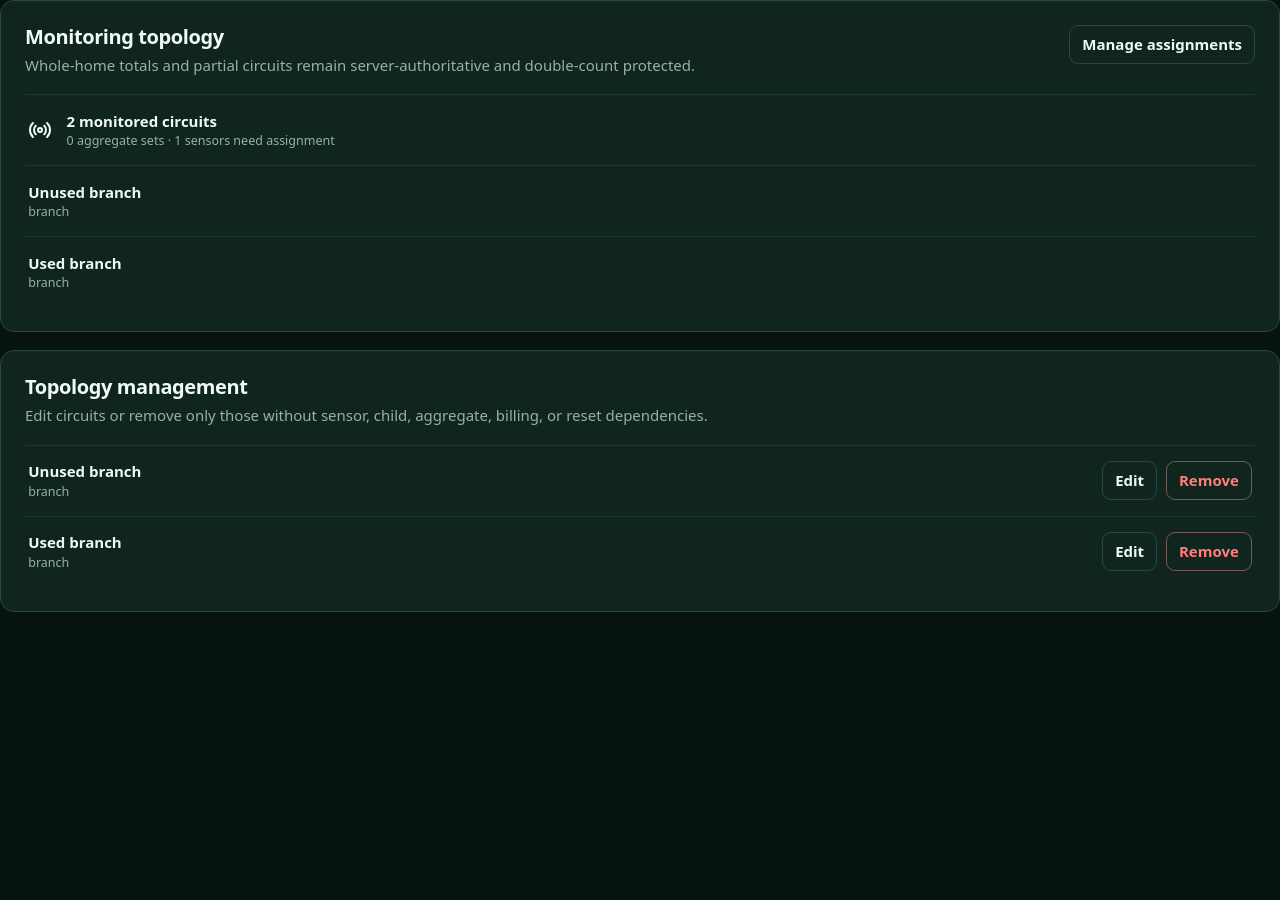
Test case: topology removal controls › removes an unused circuit only after exact confirmation and preserves history
Click the 1st button "Remove": click(1209, 481) [1166,461,1252,500]
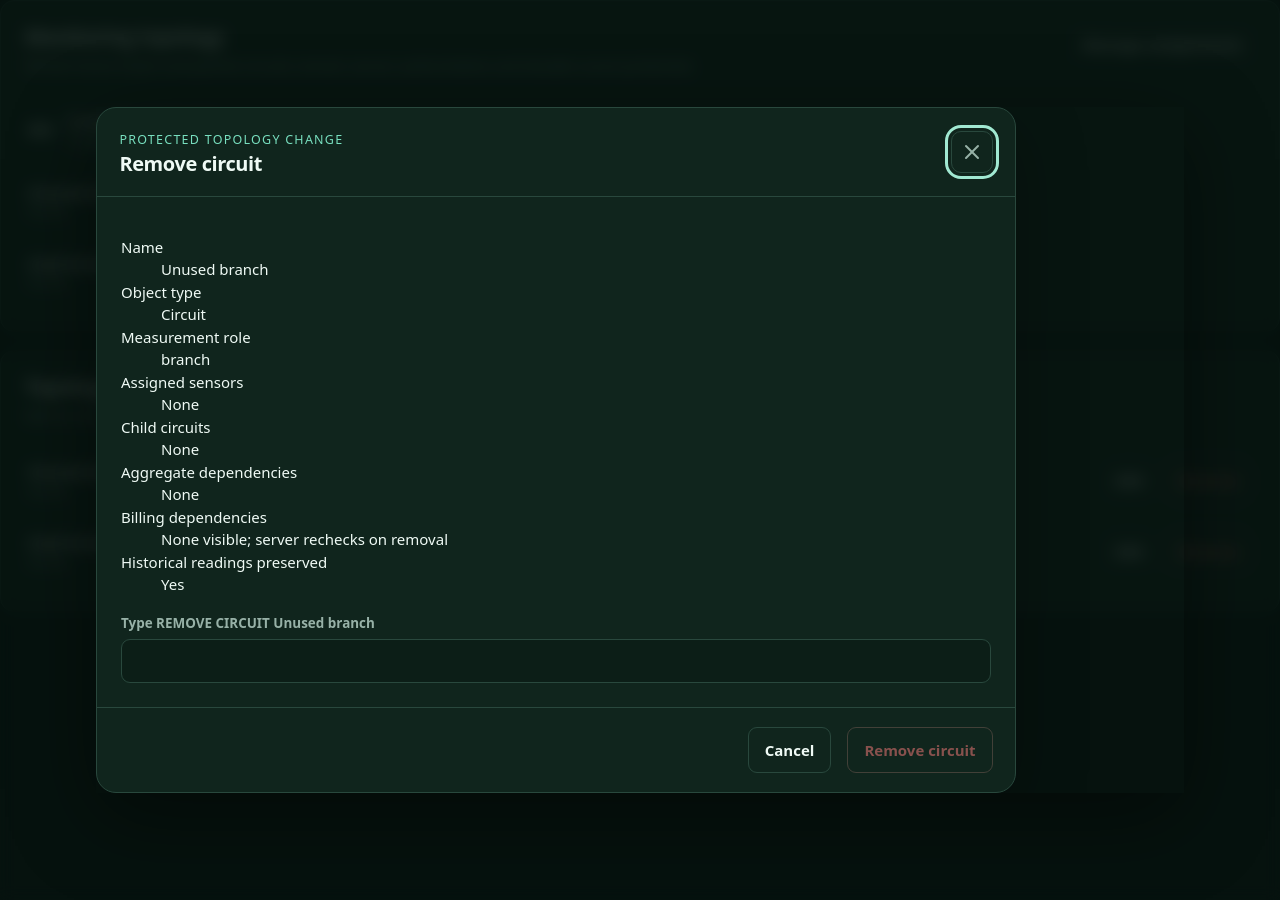
Expected: the button "Remove circuit" is disabled, [847,727,993,773]
In the field labelled "Type REMOVE CIRCUIT Unused branch": (556, 661) [121,639,991,683], type "REMOVE CIRCUIT Unused branch"
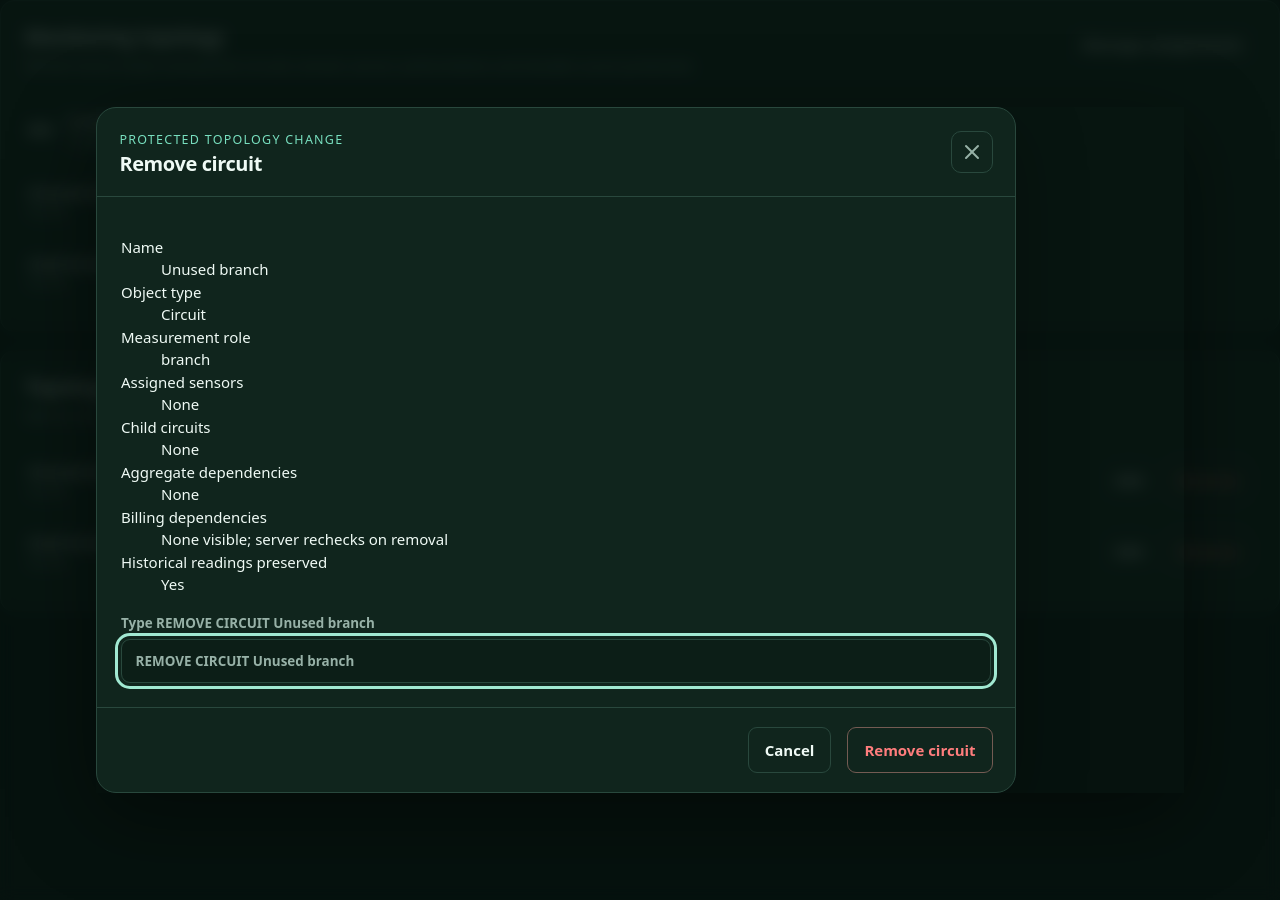
Expected: the button "Remove circuit" is enabled
Click the button "Remove circuit": click(920, 750) [847,727,993,773]
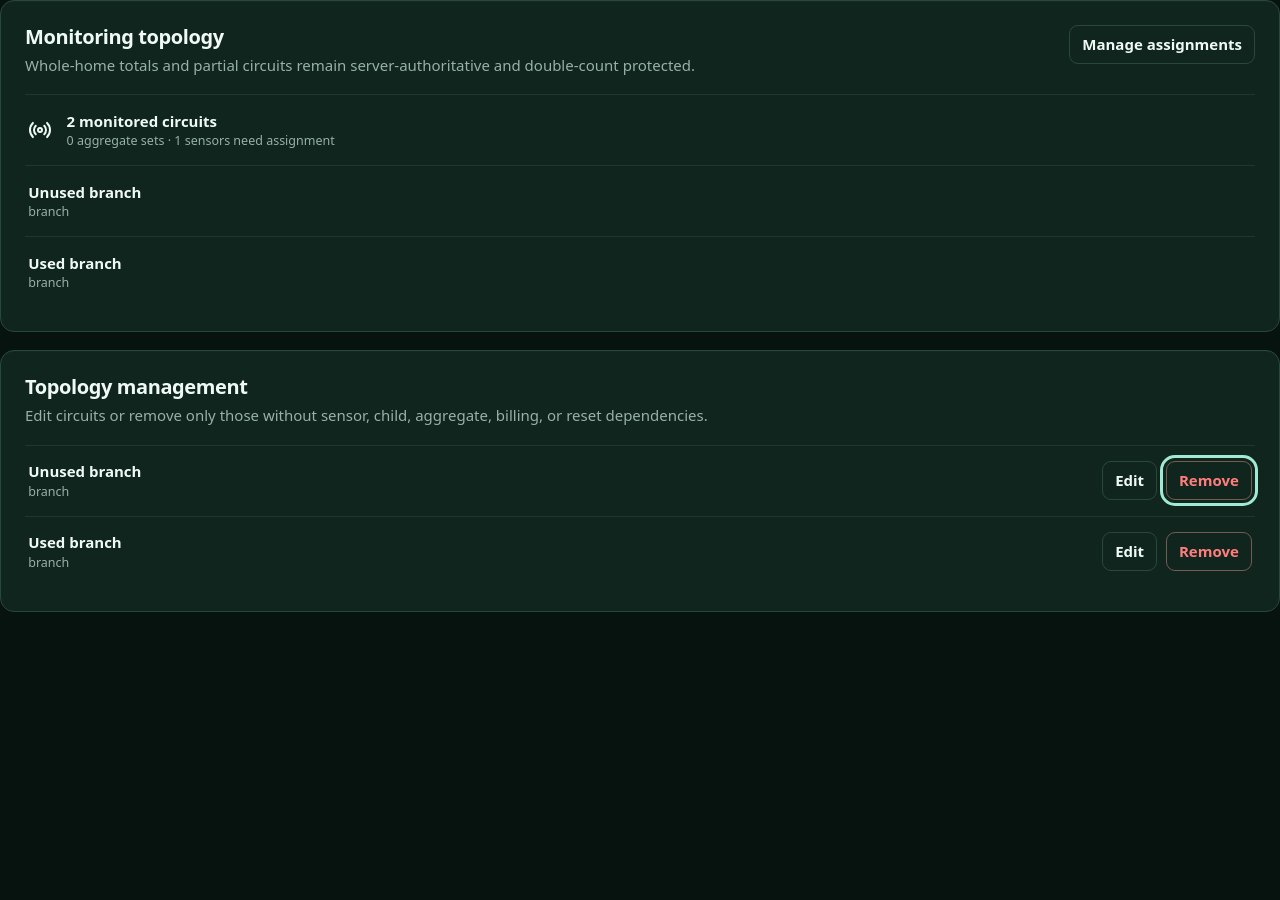
Expected: the dialog is gone
